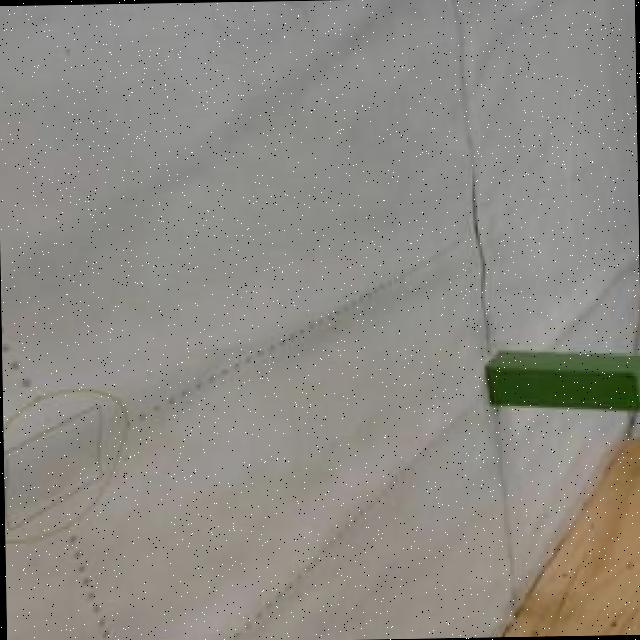greenbox: (481, 349, 640, 414)
